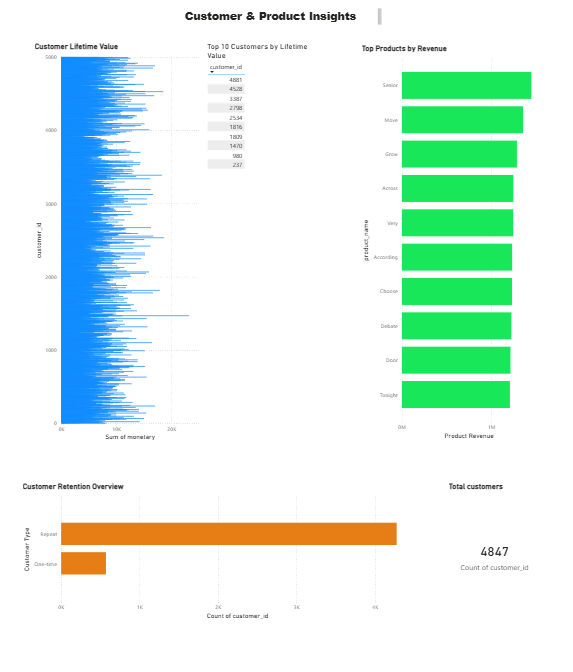

The dashboard page shown, as its layout file describes it:
{"tool":"powerbi","page":{"name":"Customer & Product Insights","canvas":[1280,1500],"ordinal":1},"visuals":[{"type":"barChart","title":"Customer Lifetime Value","fields":{"Category":["rfm_segments.customer_id"],"Y":["Sum(rfm_segments.monetary)"]},"box":[75,91.7,385,890],"z":0},{"type":"tableEx","title":" Top 10 Customers by Lifetime Value","fields":{"Values":["rfm_segments.customer_id"]},"box":[460,91.7,240,440],"z":1000},{"type":"barChart","title":" Top Products by Revenue","fields":{"Category":["products_clean.product_name"],"Y":["customers_clean.Product Revenue"]},"box":[803.3,96.7,406.7,883.3],"z":2000},{"type":"barChart","title":"Customer Retention Overview","fields":{"Category":["orders_clean.Customer Type"],"Y":["Count(orders_clean.customer_id)"]},"box":[50,1070,886.7,310],"z":3000},{"type":"card","title":"Total customers","fields":{"Values":["Count(orders_clean.customer_id)"]},"box":[996.7,1070,213.3,310],"z":4000},{"type":"textbox","box":[410,13.3,446.7,53.3],"z":4001}]}

Visuals, with their boxes in screenshot pixels (x1, y1, x2, y2), scaled from the page's 1280x1500 canvas onto the 573x672 screenshot:
"Customer Lifetime Value" barChart: <box>34,41,206,440</box>
" Top 10 Customers by Lifetime Value" tableEx: <box>206,41,313,238</box>
" Top Products by Revenue" barChart: <box>360,43,542,439</box>
"Customer Retention Overview" barChart: <box>22,479,419,618</box>
"Total customers" card: <box>446,479,542,618</box>
textbox: <box>184,6,384,30</box>
